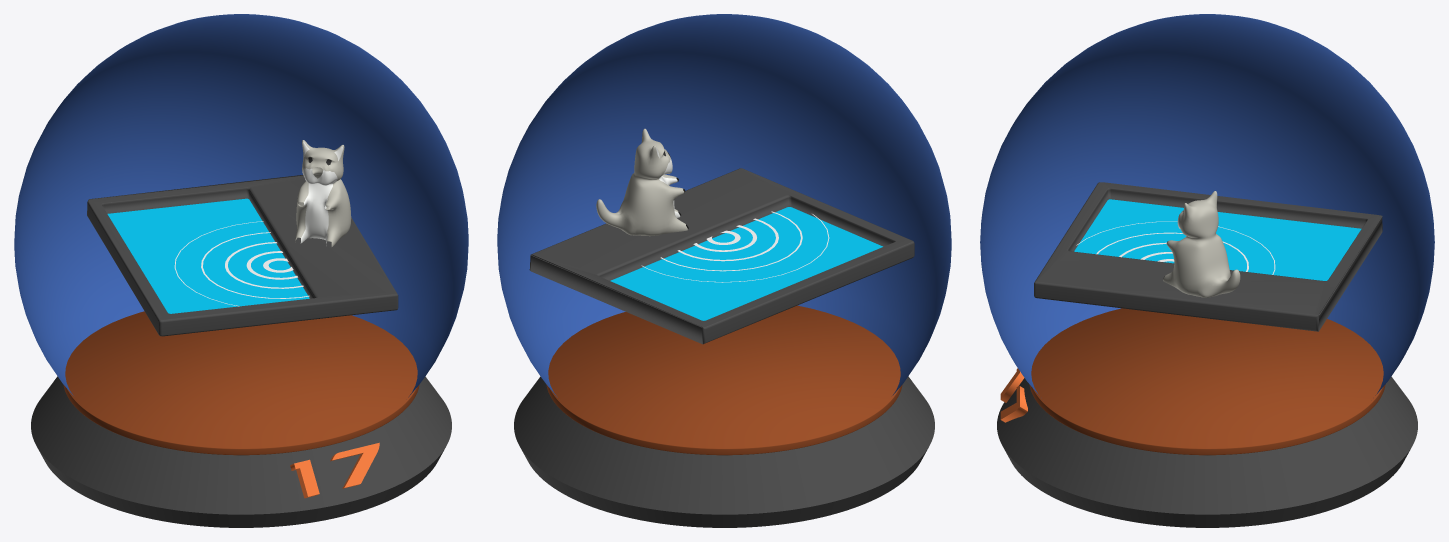
The model's file is Curio_17.glb.
3 renders of one model, left to right at view 1: azimuth 30°, elevation 25°; view 2: azimuth 150°, elevation 25°; view 3: azimuth 270°, elevation 25°, orthographic.
Parts seen in each view (by area): view 1: Sphere.056, Sphere.055, Cube.034, Sphere.054, Text.022; view 2: Sphere.056, Cube.034, Sphere.055, Sphere.054; view 3: Sphere.056, Sphere.055, Cube.034, Sphere.054, Text.022.
Part boxes in pixels (bbox=[...]): Sphere.056: bbox=[14, 14, 468, 397]; Sphere.055: bbox=[63, 311, 419, 455]; Cube.034: bbox=[87, 140, 398, 336]; Sphere.054: bbox=[31, 376, 451, 527]; Text.022: bbox=[290, 442, 379, 498]; Sphere.056: bbox=[497, 14, 951, 397]; Cube.034: bbox=[529, 128, 914, 344]; Sphere.055: bbox=[546, 305, 902, 455]; Sphere.054: bbox=[514, 376, 934, 527]; Sphere.056: bbox=[980, 14, 1434, 395]; Sphere.055: bbox=[1029, 308, 1385, 455]; Cube.034: bbox=[1034, 182, 1382, 331]; Sphere.054: bbox=[997, 376, 1417, 527]; Text.022: bbox=[1000, 368, 1027, 422].
Bounding box in the file's own units: 4.66 × 4.62 × 4.66.
